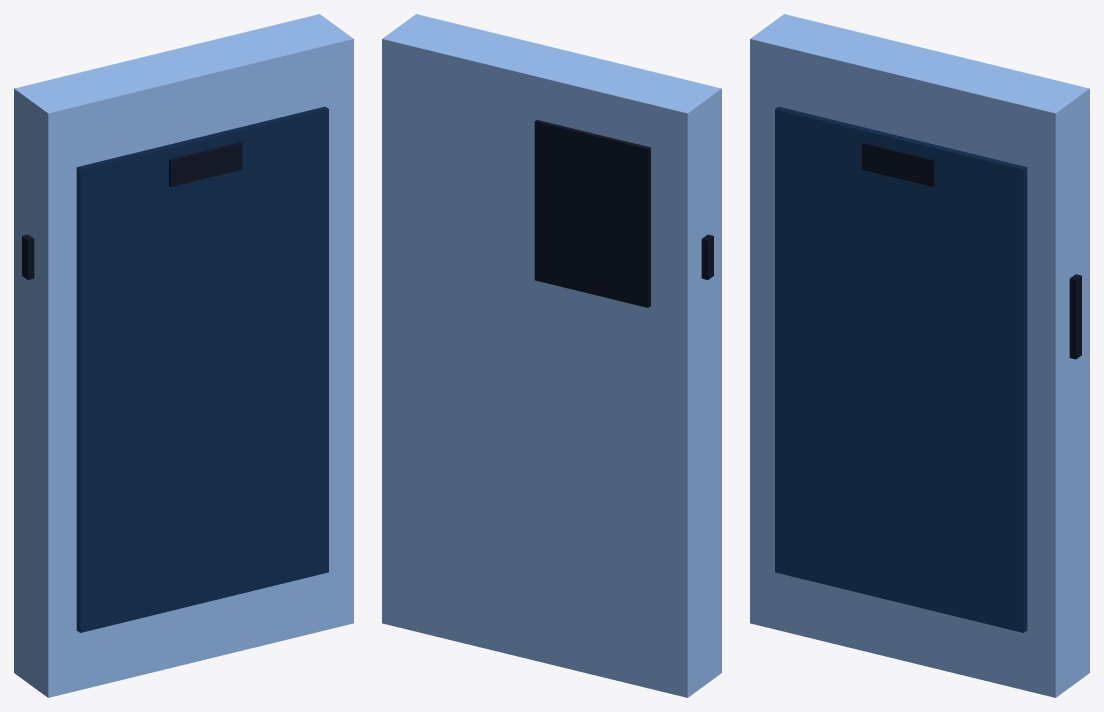
Rendered from luma-phone.gltf.
The picture shows the model from 3 angles, left to right: view 1: azimuth 30°, elevation 25°; view 2: azimuth 150°, elevation 25°; view 3: azimuth 330°, elevation 25°; orthographic projection.
Visible parts, largest first — view 1: ScreenPanel, PhoneFrame, DynamicIsland, MuteSwitch; view 2: PhoneFrame, CameraPlate, MuteSwitch; view 3: ScreenPanel, PhoneFrame, DynamicIsland, SideButton.
Boxes of the visible parts, bbox=[...] form: ScreenPanel: bbox=[76, 106, 328, 632]; PhoneFrame: bbox=[14, 14, 353, 697]; DynamicIsland: bbox=[169, 142, 242, 186]; MuteSwitch: bbox=[22, 234, 34, 279]; PhoneFrame: bbox=[382, 14, 721, 697]; CameraPlate: bbox=[534, 120, 650, 307]; MuteSwitch: bbox=[701, 234, 713, 279]; ScreenPanel: bbox=[775, 106, 1027, 632]; PhoneFrame: bbox=[750, 14, 1089, 697]; DynamicIsland: bbox=[861, 142, 934, 186]; SideButton: bbox=[1069, 274, 1081, 359].
Size of the model in its own units: 1.51 by 2.65 by 0.345.
